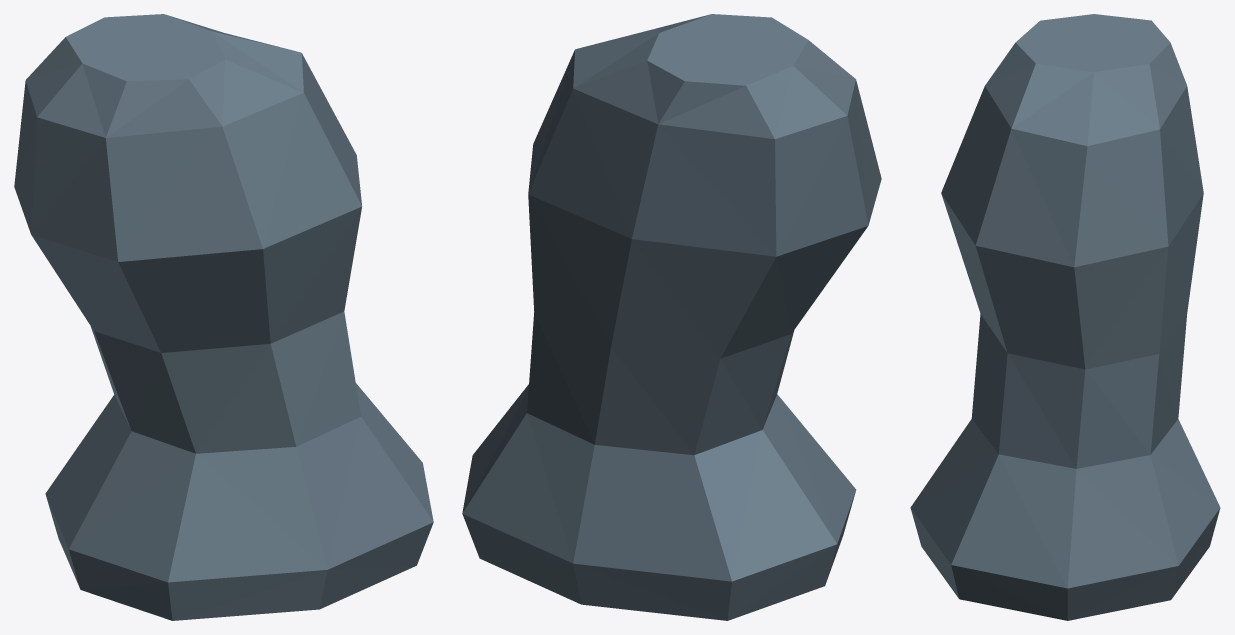
The model's file is EM_SeaStack.fbx.
3 views of the same model, side by side, from view 1: azimuth 30°, elevation 25°; view 2: azimuth 150°, elevation 25°; view 3: azimuth 270°, elevation 25° (orthographic). The views are drawn at different scales.
Visible parts, largest first — view 1: EM_SeaStack; view 2: EM_SeaStack; view 3: EM_SeaStack.
Boxes of the visible parts, left/top/right/bottom form: EM_SeaStack: left=14, top=14, right=433, bottom=620; EM_SeaStack: left=462, top=14, right=881, bottom=620; EM_SeaStack: left=910, top=14, right=1220, bottom=620.
Bounding box in the file's own units: 1.86 × 2.35 × 1.41.
